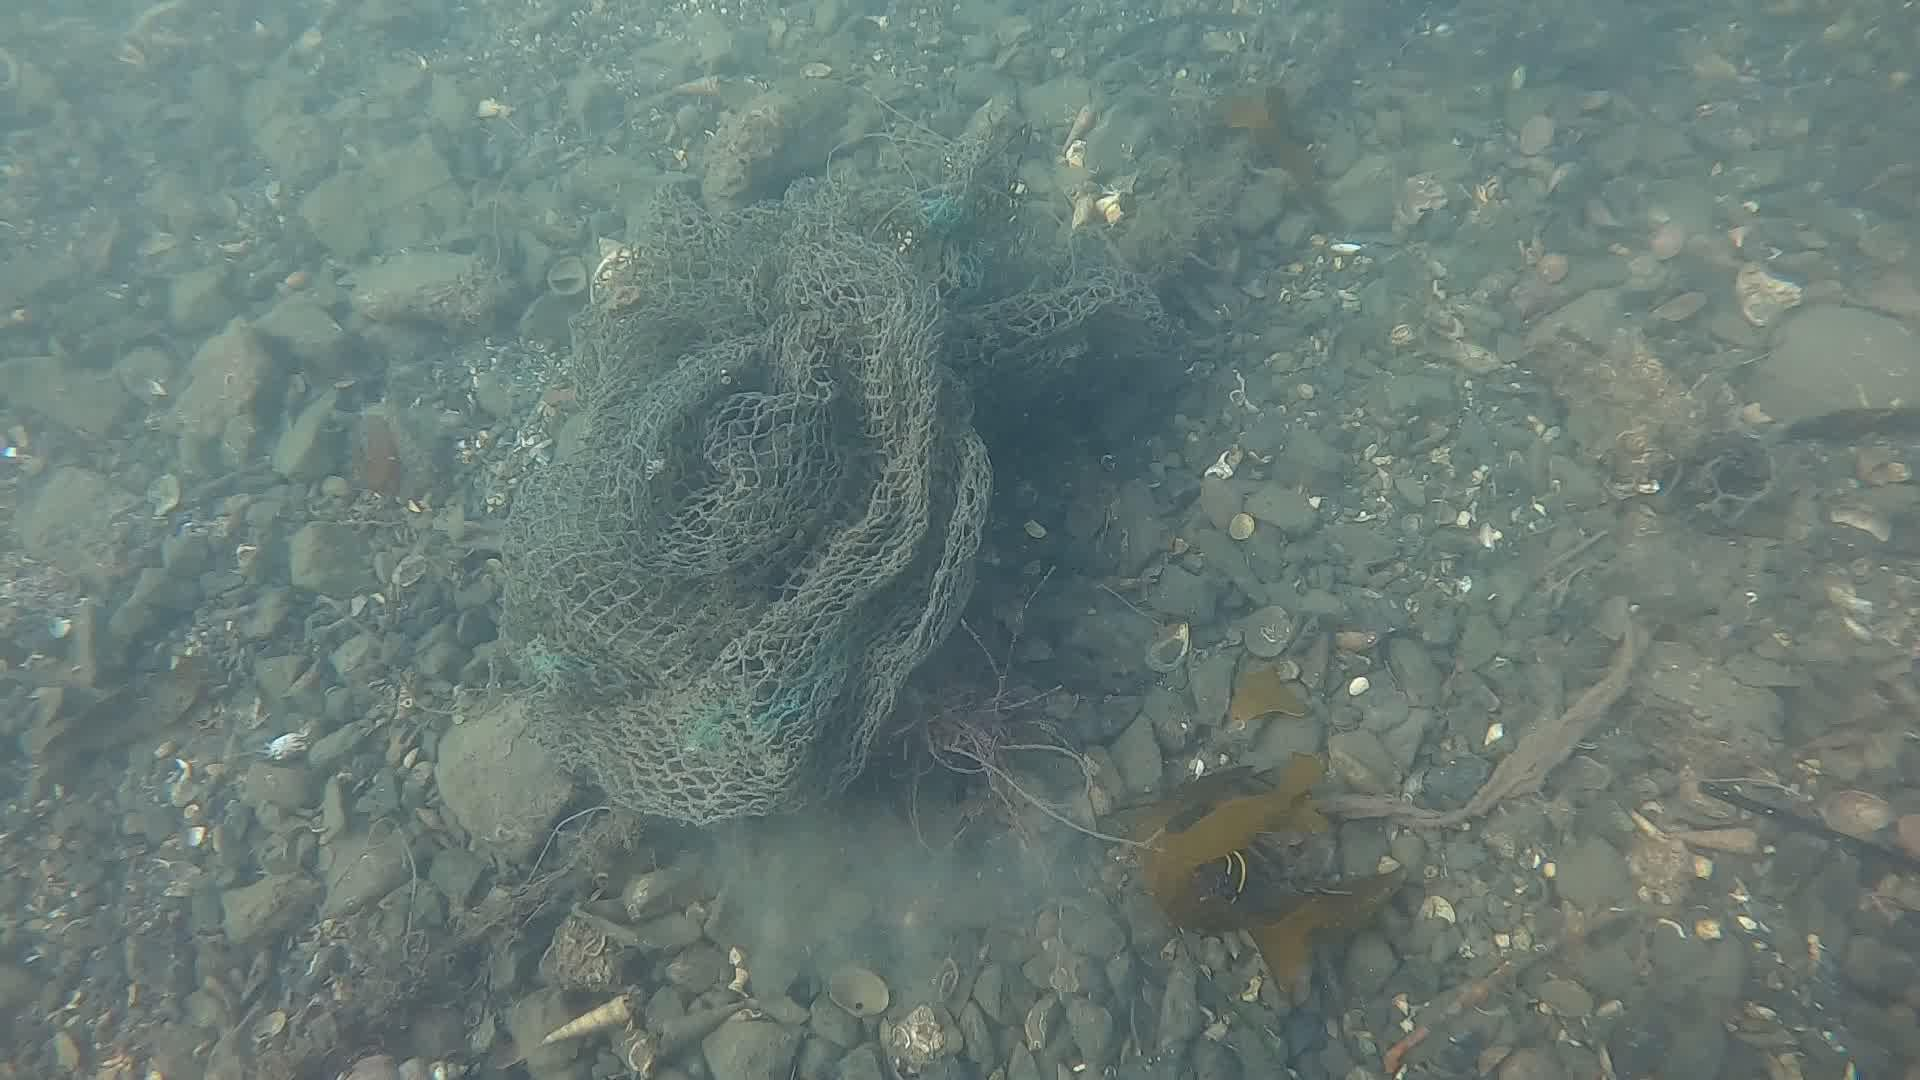fish net: (527, 178, 1122, 823)
